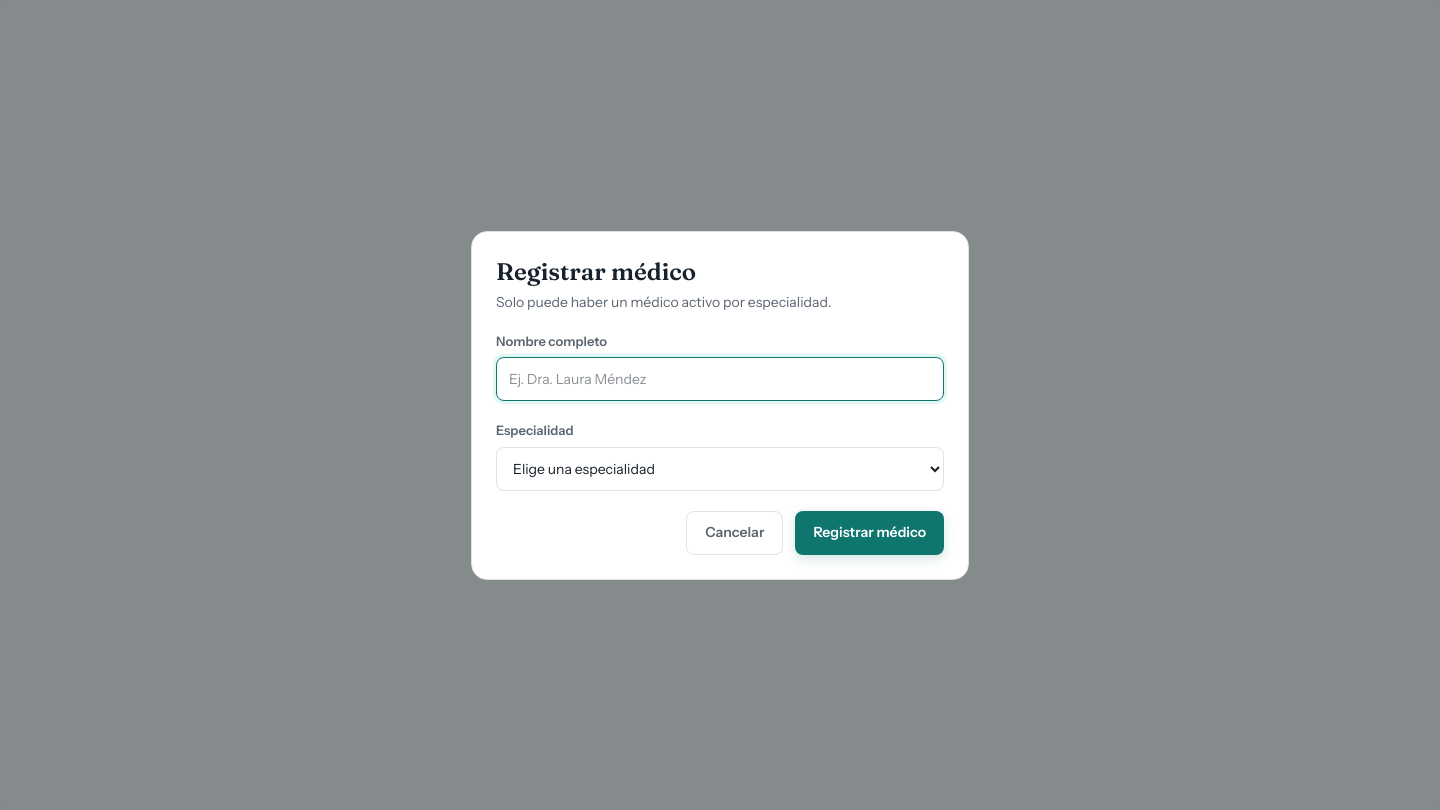
DoctorFormDialog › warns and blocks saving when the specialty already has an active doctor
This screenshot has width=1440, height=810.
Select "Pediatría · Dra. Sofía Arce" in the dropdown labelled "Especialidad" at point(720, 468), box [496,446,944,490]
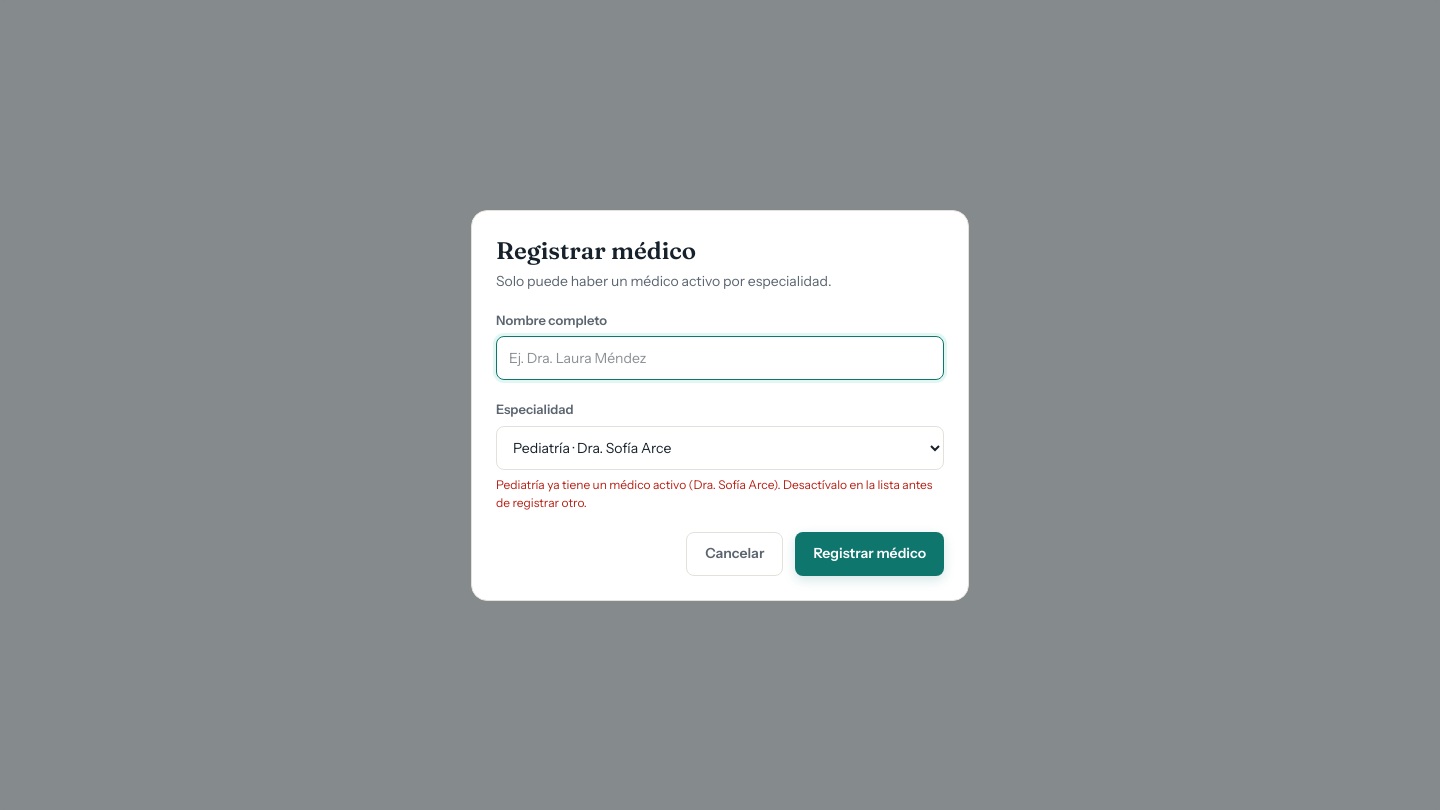
Result: the message shows "Pediatría ya tiene un médico activo (Dra. Sofía Arce)" at [496,476,944,512]
Result: the button "Registrar médico" is disabled at [795,532,944,576]
